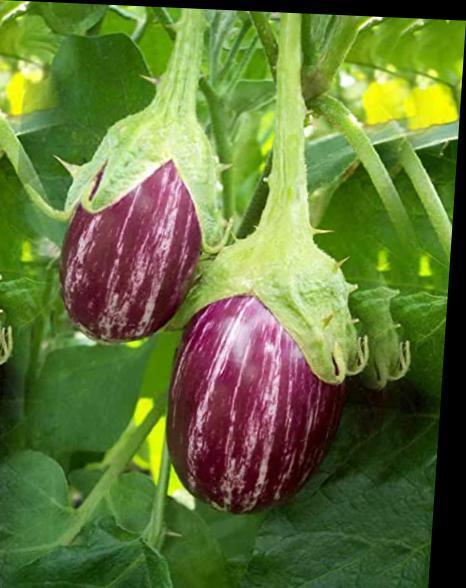eggplant: (140, 199, 385, 519), (69, 4, 240, 345)
